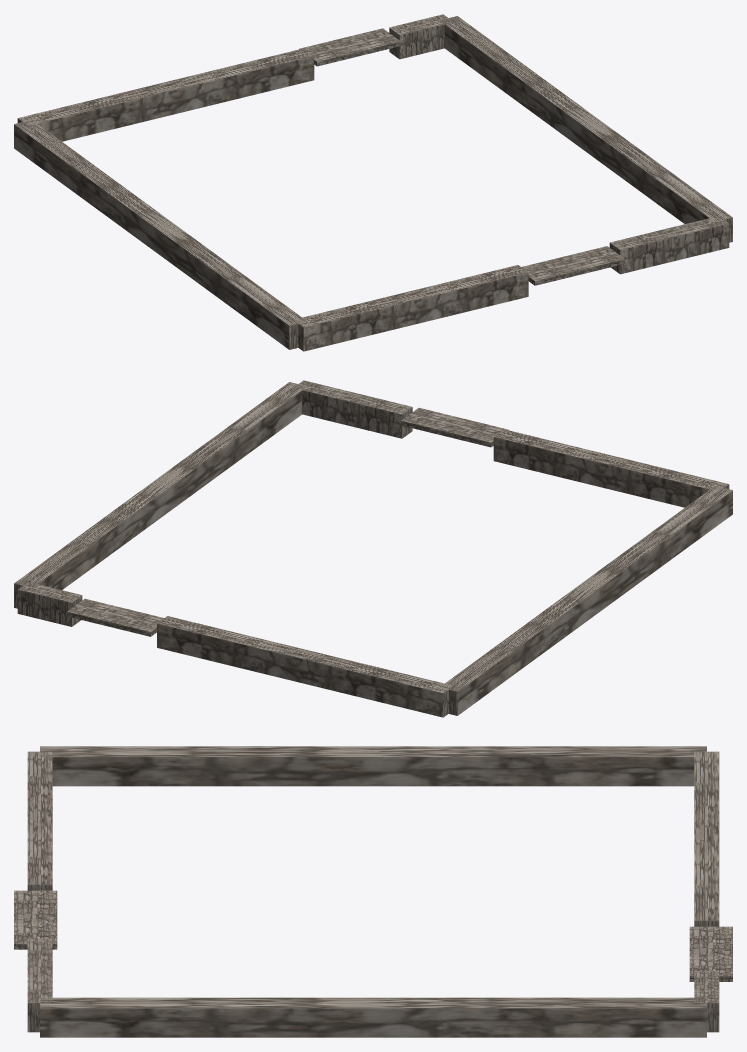
The model's file is BW_Bakery01_Foundation.fbx.
3 renders of one model, top to bottom at view 1: azimuth 30°, elevation 25°; view 2: azimuth 150°, elevation 25°; view 3: azimuth 270°, elevation 25°, orthographic. The views are drawn at different scales.
Parts seen in each view (by area): view 1: BW_Bakery01_Foundation; view 2: BW_Bakery01_Foundation; view 3: BW_Bakery01_Foundation.
Boxes of the visible parts, x1,y1,x2,y2 form: BW_Bakery01_Foundation: [14, 14, 732, 351]; BW_Bakery01_Foundation: [14, 380, 732, 717]; BW_Bakery01_Foundation: [14, 746, 732, 1037].
Size of the model in its own units: 6.88 by 0.36 by 7.98.
